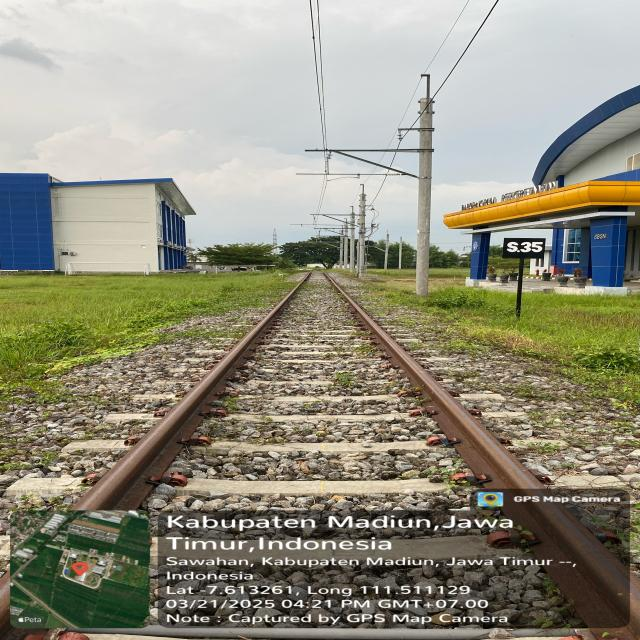rail-detection: (71, 271, 311, 510), (325, 273, 542, 489), (539, 517, 629, 624)
